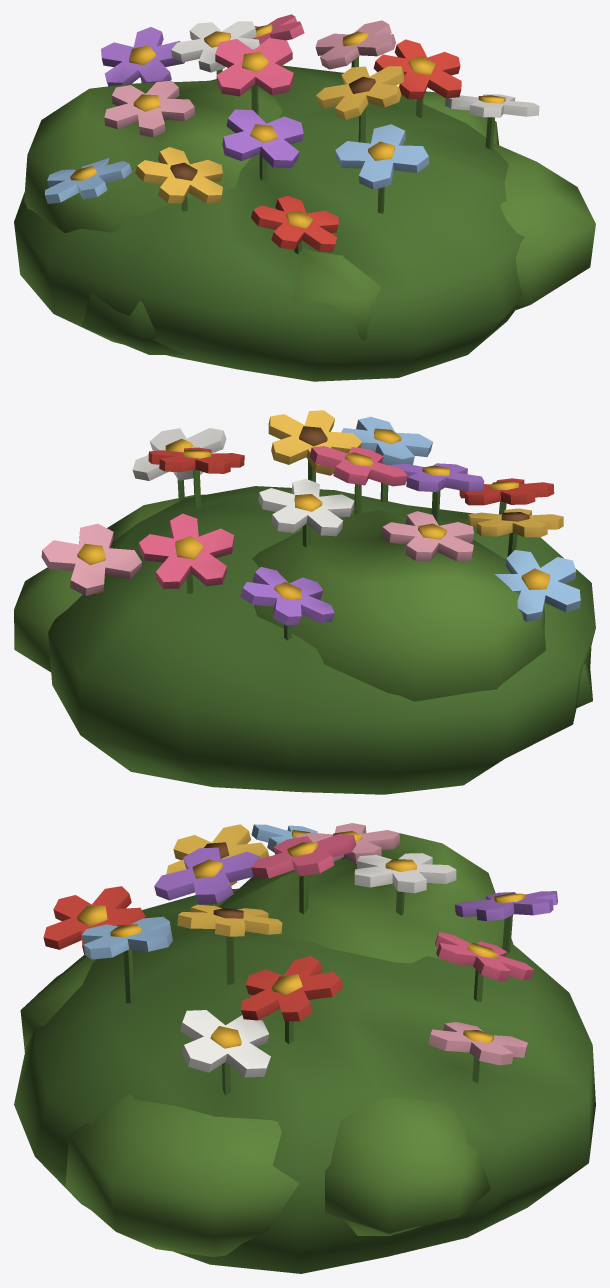
The model's file is flowers.glb.
3 views of the same model, one above another, from view 1: azimuth 30°, elevation 25°; view 2: azimuth 150°, elevation 25°; view 3: azimuth 270°, elevation 25° (orthographic). The views are drawn at different scales.
Parts seen in each view (by area): view 1: flowers; view 2: flowers; view 3: flowers.
Part boxes in pixels (x1,y1,x2,y2): flowers: [14, 14, 595, 381]; flowers: [14, 410, 595, 794]; flowers: [14, 823, 595, 1273].
Size of the model in its own units: 0.5962 by 0.3421 by 0.5292.
